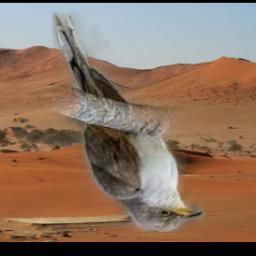Cuckoo: (52, 13, 205, 233)
